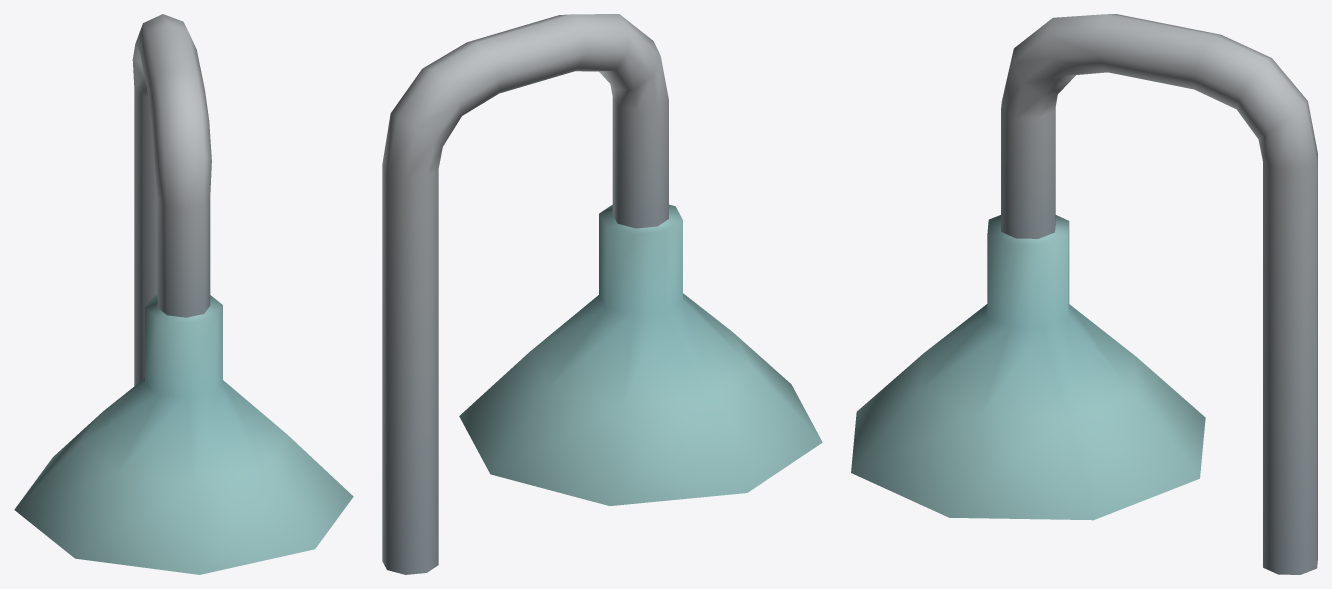
File: ArchLamp.glb
The picture shows the model from 3 angles, left to right: view 1: azimuth 30°, elevation 25°; view 2: azimuth 150°, elevation 25°; view 3: azimuth 270°, elevation 25°; orthographic projection. The views are drawn at different scales.
Visible parts, largest first — view 1: ArchLamp; view 2: ArchLamp; view 3: ArchLamp.
Part boxes in pixels (bbox=[...]): ArchLamp: bbox=[14, 14, 353, 574]; ArchLamp: bbox=[382, 14, 822, 574]; ArchLamp: bbox=[851, 14, 1317, 574].
Size of the model in its own units: 0.8145 by 1.3 by 1.07.
